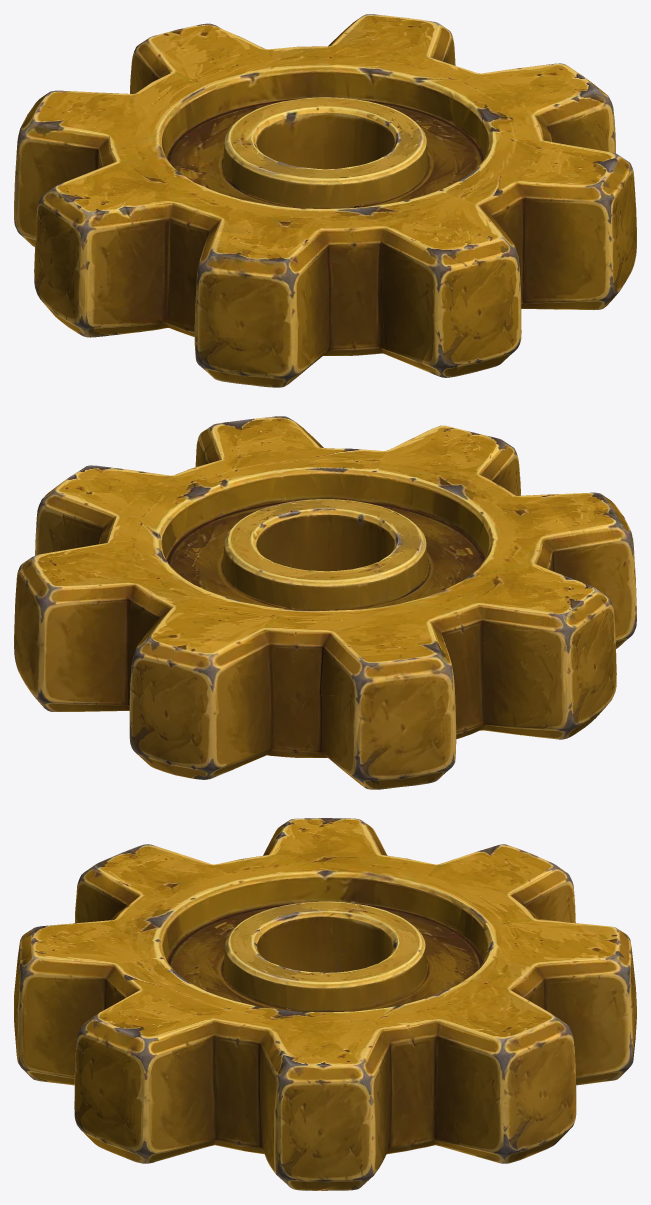
Rendered from mat_gear.glb.
The picture shows the model from 3 angles, top to bottom: view 1: azimuth 30°, elevation 25°; view 2: azimuth 150°, elevation 25°; view 3: azimuth 270°, elevation 25°; orthographic projection.
Visible parts, largest first — view 1: output_unwrapped; view 2: output_unwrapped; view 3: output_unwrapped.
Part boxes in pixels (x1,y1,x2,y2): output_unwrapped: (14,14,636,387); output_unwrapped: (14,416,636,789); output_unwrapped: (14,818,636,1190).
Bounding box in the file's own units: 1.9 × 0.423 × 1.9.
1 material, 1 textured.
